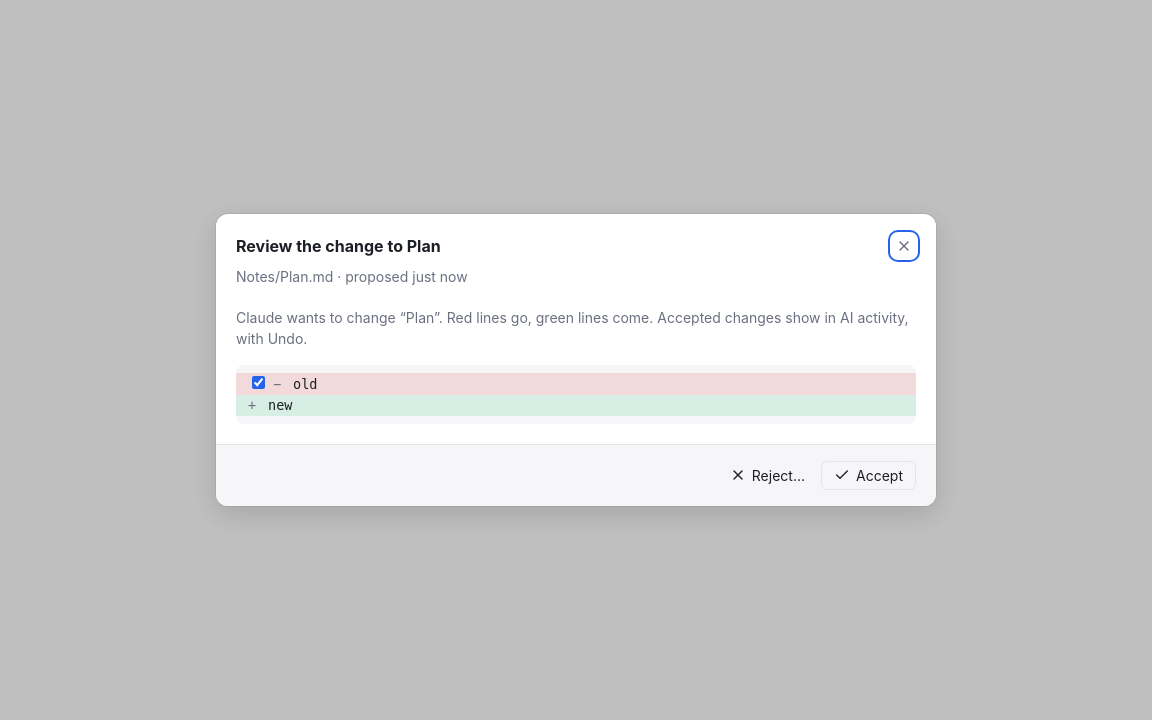
it: does not repeat an accepted change when opening its file fails
The width and height of the screenshot is (1152, 720).
Click the button "Accept".
click(868, 475)  # box [821,461,916,490]
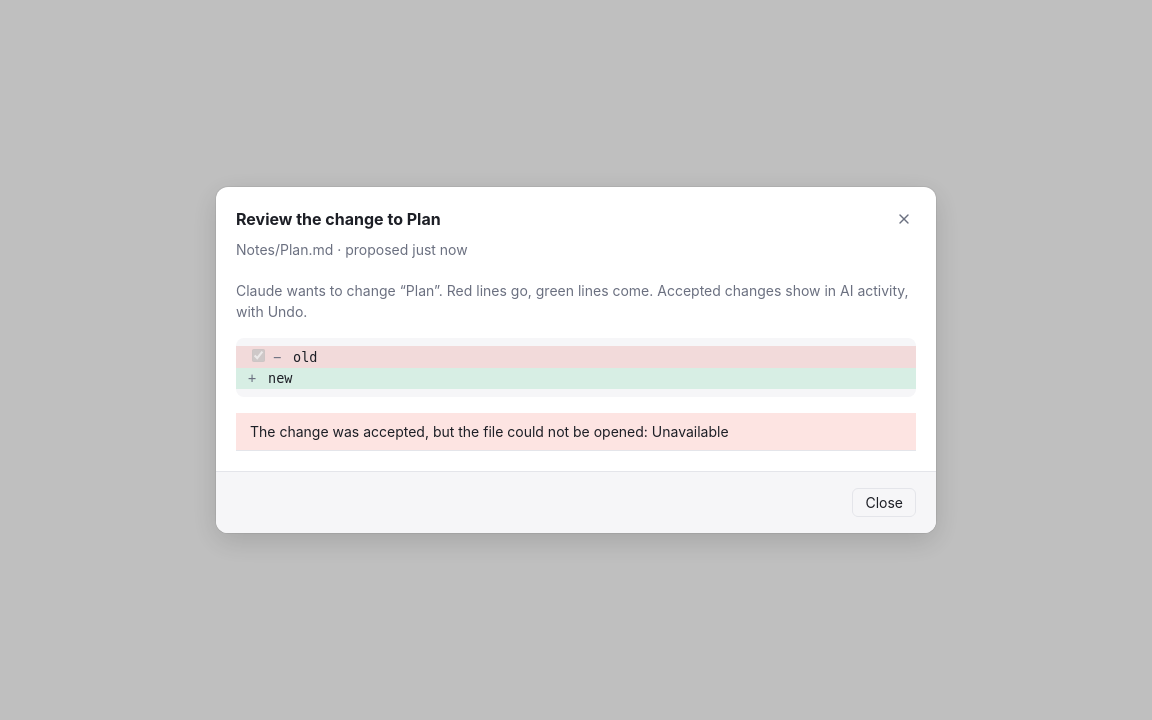
Check: the button "Close" is enabled, box [852,488,916,517]
Check: the message shows "The change was accepted", box [250,423,729,440]
